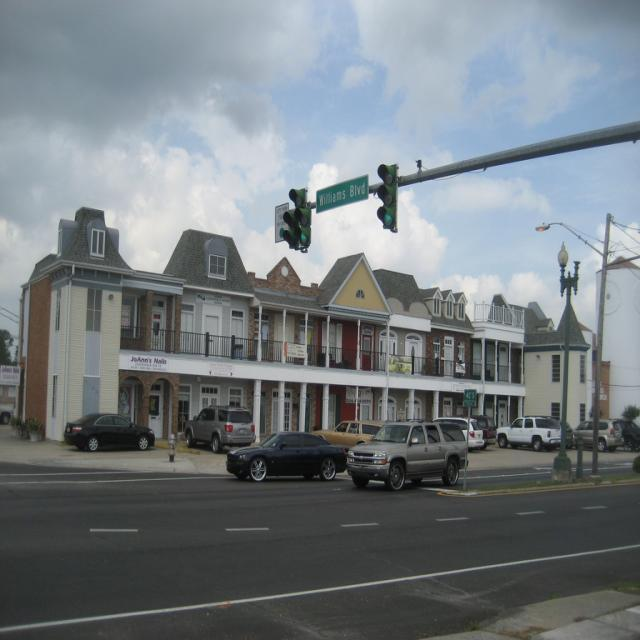traffic light: (278, 188, 311, 248), (375, 163, 398, 230)
